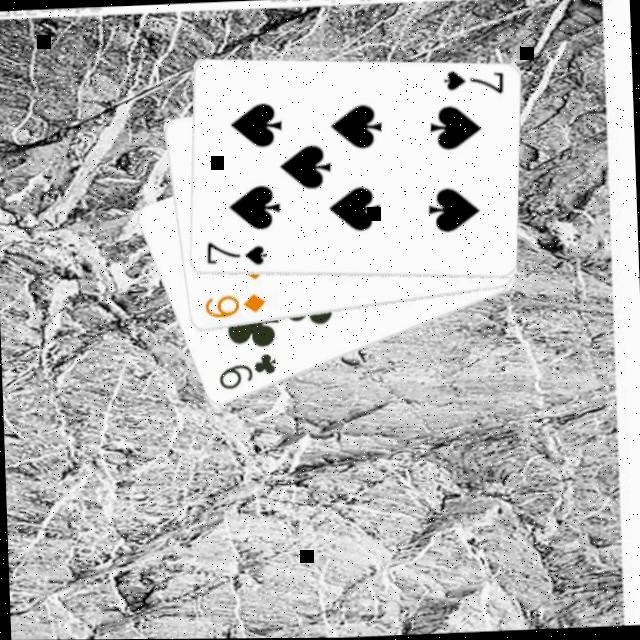6D: (202, 292, 270, 324)
7S: (441, 68, 508, 101), (204, 240, 272, 272)
9C: (216, 352, 282, 396)
